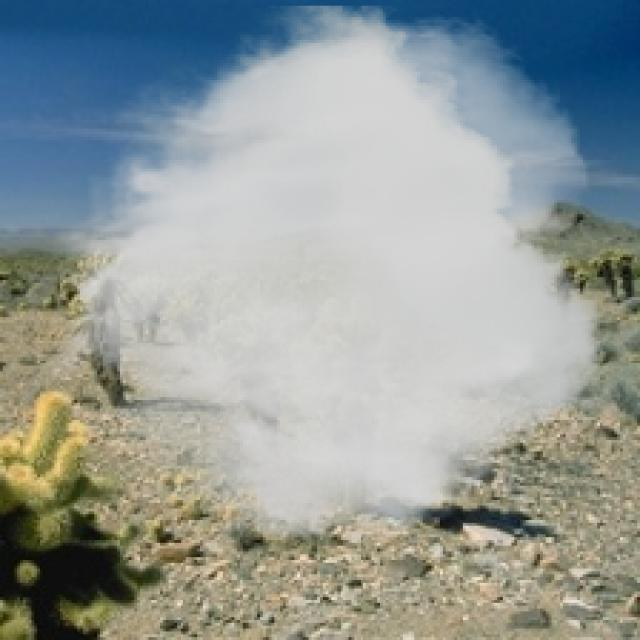smoke: (37, 6, 600, 548)
